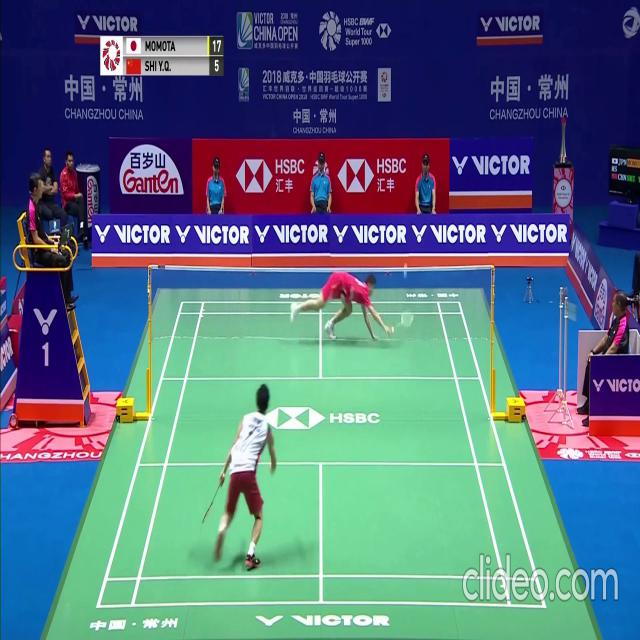Shuttlecock: (403, 264, 407, 271)
